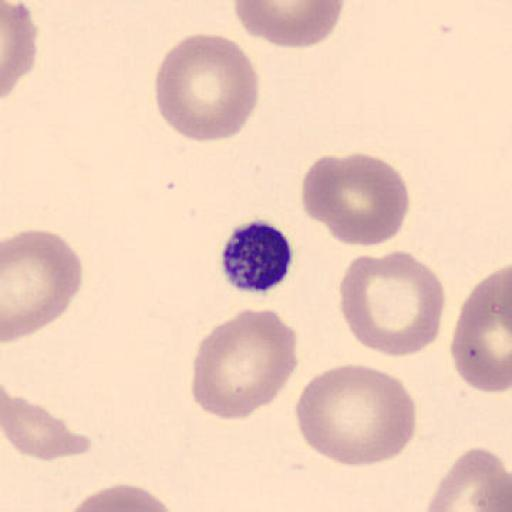Platelet: (218, 216, 296, 295)
RBC: (294, 362, 417, 468), (190, 308, 301, 422), (152, 32, 260, 144), (338, 248, 446, 358), (300, 151, 411, 248), (1, 228, 84, 342), (449, 268, 512, 394), (2, 391, 92, 462), (423, 445, 511, 512), (233, 0, 345, 49), (2, 0, 38, 102), (62, 482, 178, 512)
